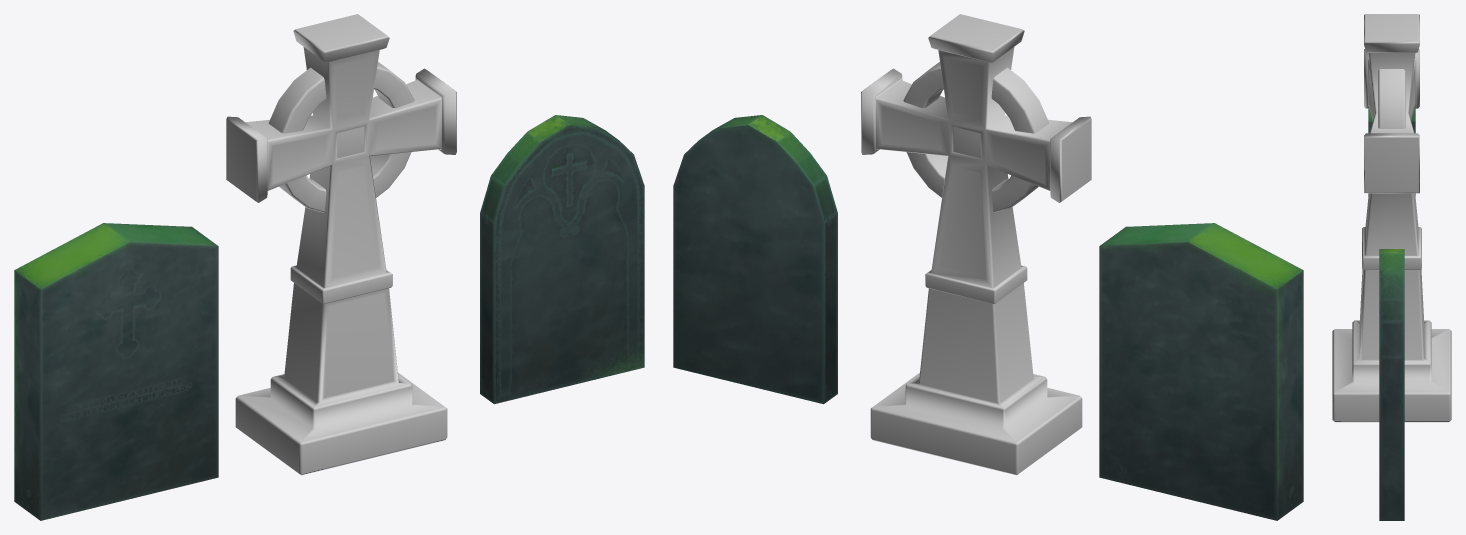
File: stylized-graveyard.gltf
3 renders of one model, left to right at view 1: azimuth 30°, elevation 25°; view 2: azimuth 150°, elevation 25°; view 3: azimuth 270°, elevation 25°, orthographic. The views are drawn at different scales.
Visible parts, largest first — view 1: tumolo_low, tumulo_02_low, tumulo_01_low; view 2: tumolo_low, tumulo_02_low, tumulo_01_low; view 3: tumolo_low, tumulo_01_low, tumulo_02_low.
Boxes of the visible parts, x1,y1,x2,y2 form: tumolo_low: (226,14,456,475); tumulo_02_low: (14,223,218,520); tumulo_01_low: (480,115,644,404); tumolo_low: (861,14,1091,475); tumulo_02_low: (1099,223,1303,520); tumulo_01_low: (673,115,837,404); tumolo_low: (1332,14,1451,422); tumulo_01_low: (1379,249,1404,520); tumulo_02_low: (1368,108,1415,195).
Size of the model in its own units: 306 by 193 by 57.3.
